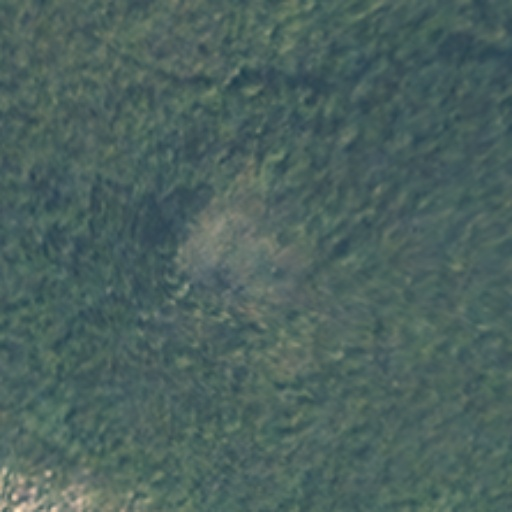landslide: (169, 190, 306, 304)
